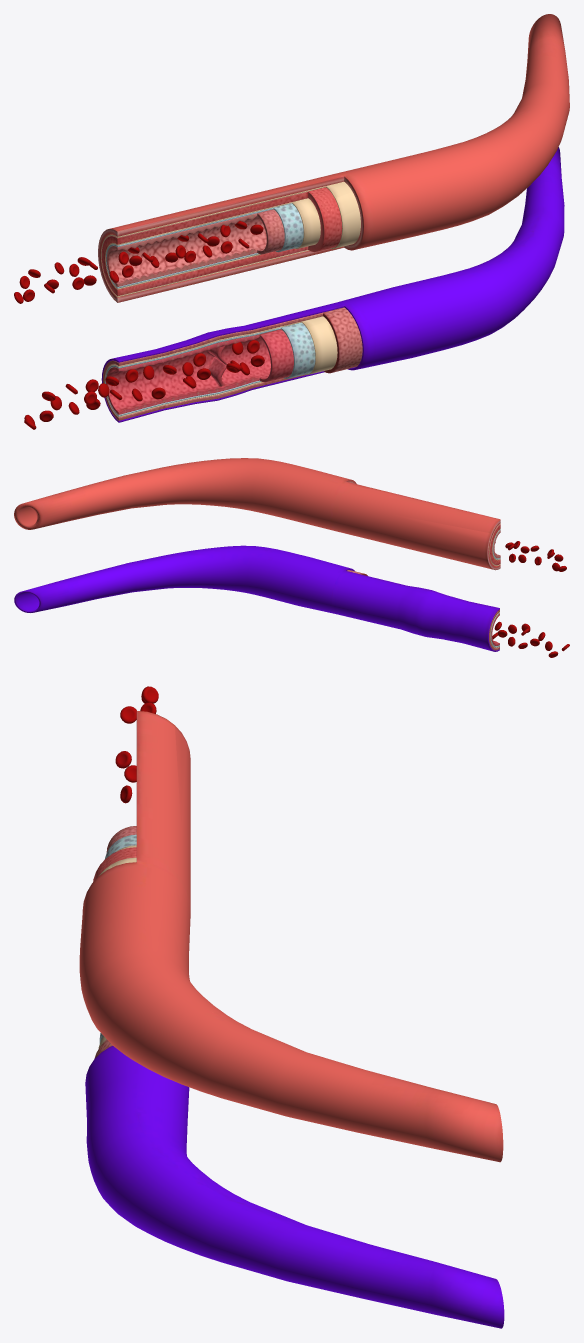
File: blood-vessels-lite.glb
The picture shows the model from 3 angles, top to bottom: view 1: azimuth 30°, elevation 25°; view 2: azimuth 150°, elevation 25°; view 3: azimuth 270°, elevation 25°; orthographic projection. The views are drawn at different scales.
Visible parts, largest first — view 1: Lumen_blood vessels_0; view 2: Lumen_blood vessels_0; view 3: Lumen_blood vessels_0.
Part boxes in pixels (box(x1,y1,x2,y2)): Lumen_blood vessels_0: box(14, 14, 569, 429); Lumen_blood vessels_0: box(14, 458, 569, 657); Lumen_blood vessels_0: box(79, 686, 504, 1328).
Bounding box in the file's own units: 7.31 × 2.01 × 2.9.
1 material, 1 textured.
